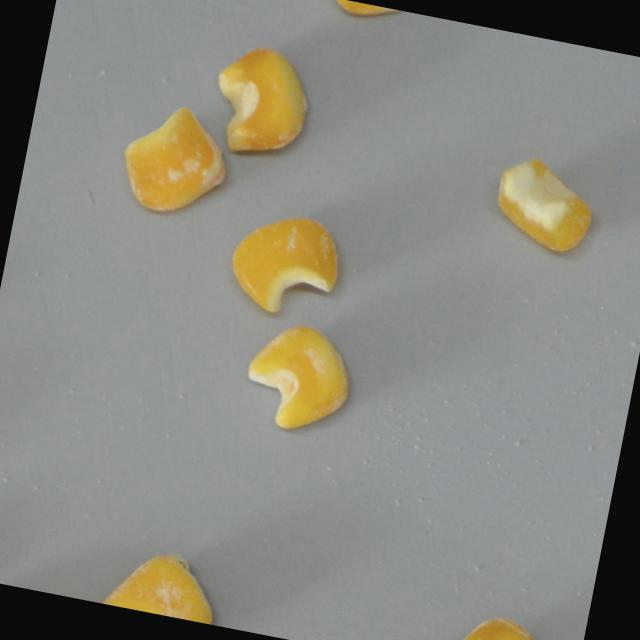no_canjicado: (487, 152, 600, 256), (316, 0, 408, 24)
pelicula: (114, 94, 236, 221), (222, 202, 349, 322), (238, 316, 360, 438), (205, 38, 321, 162), (98, 542, 226, 625), (457, 608, 568, 640)
